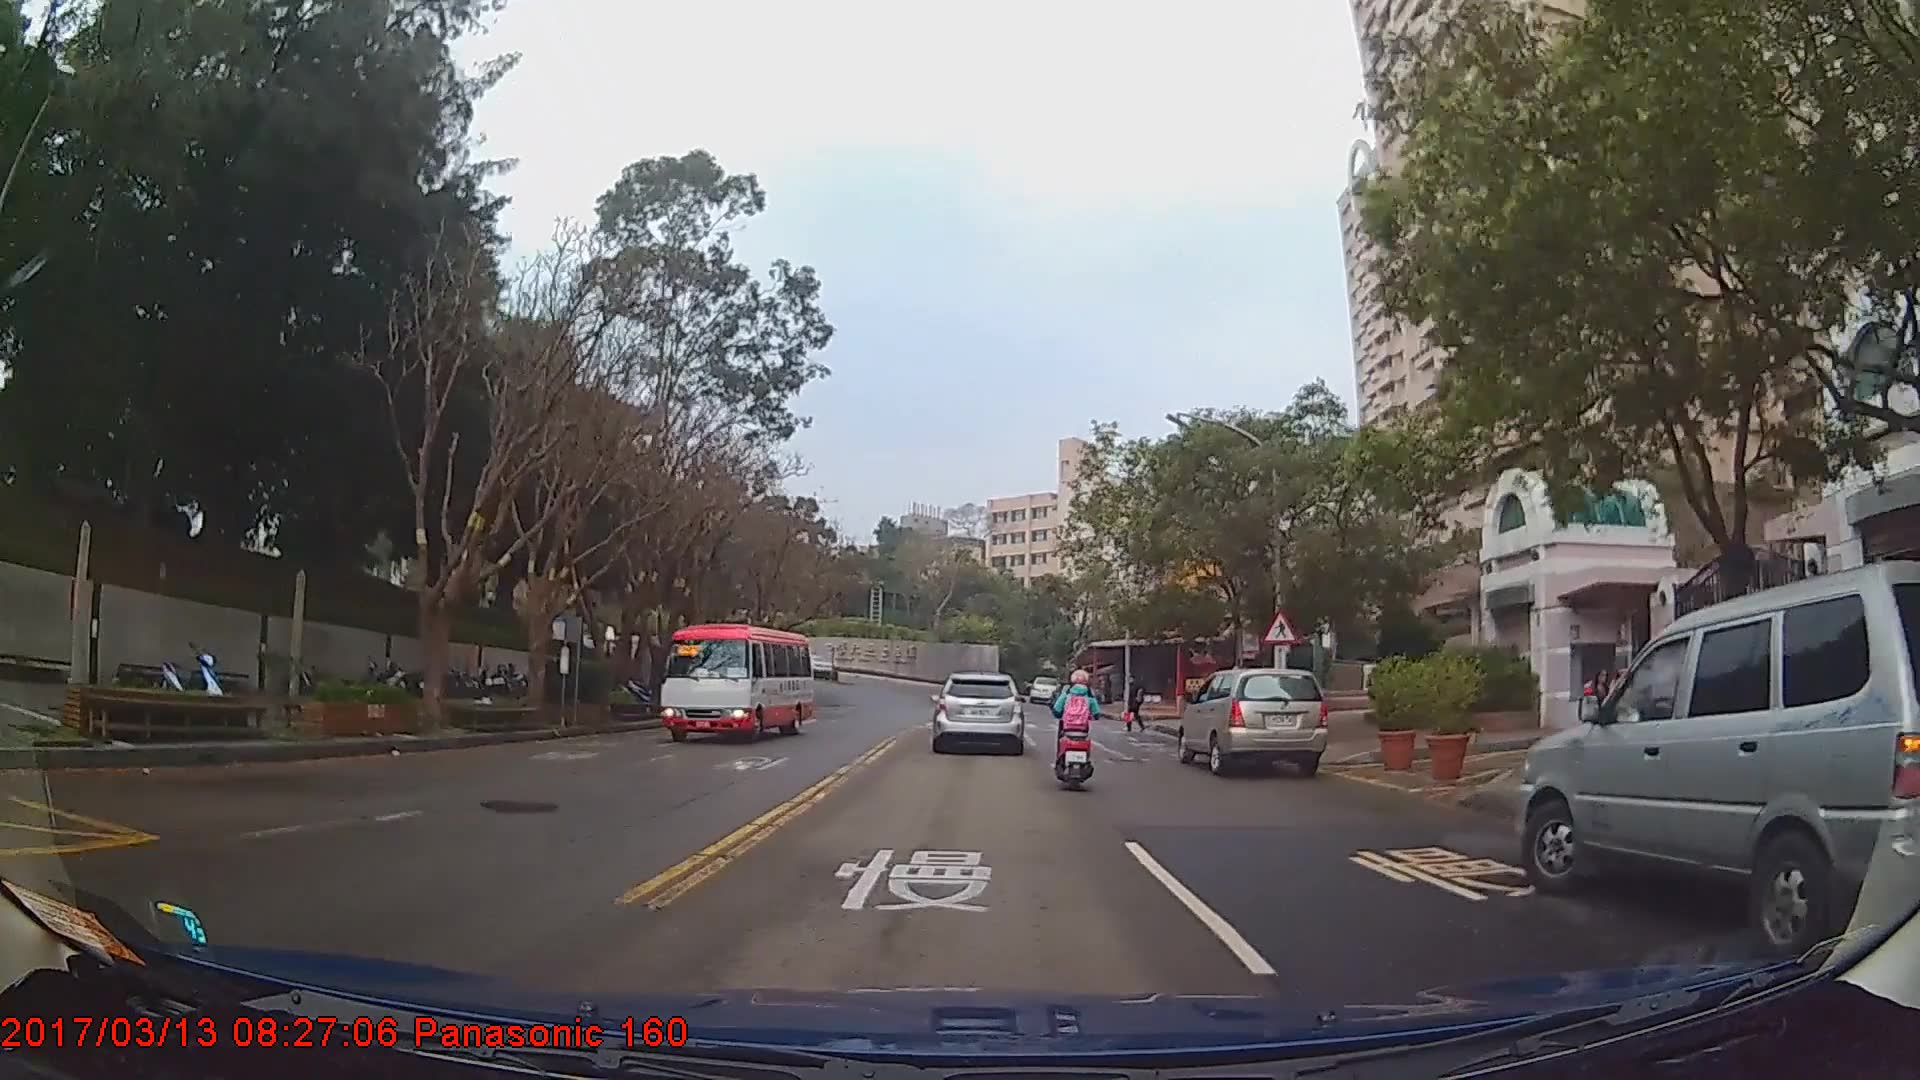pedestrian: (1123, 671, 1148, 737)
rider: (1051, 664, 1106, 794)
vehicle: (1519, 560, 1920, 948), (660, 623, 815, 743), (1175, 667, 1328, 777), (929, 674, 1025, 757), (1028, 676, 1060, 703)
